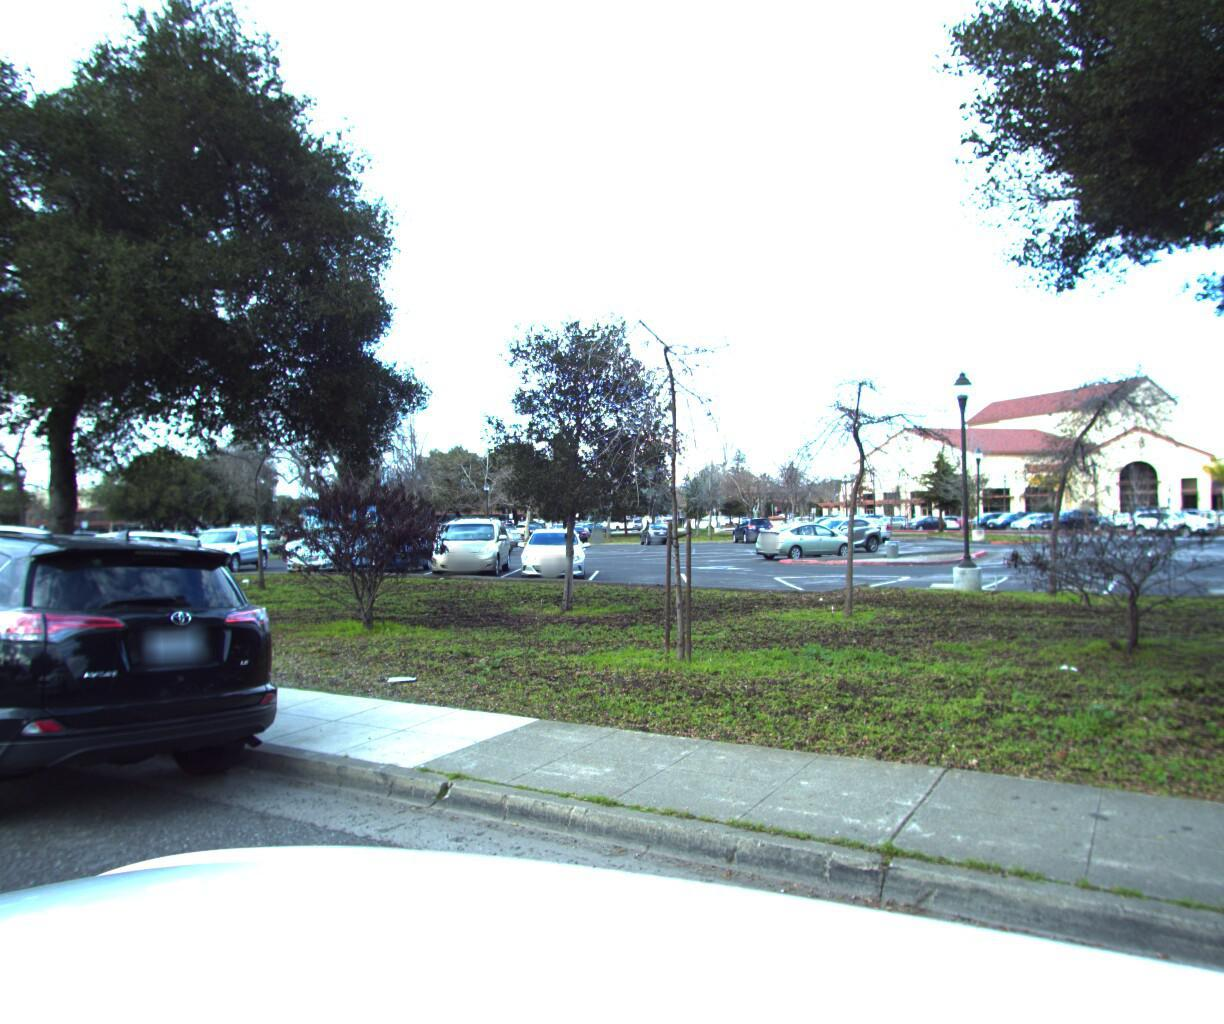car: (0, 509, 330, 890)
